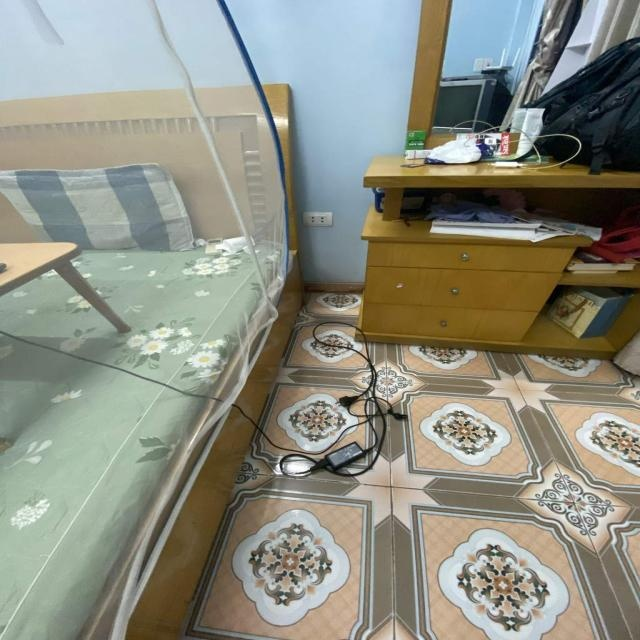outlet: (303, 211, 333, 227)
